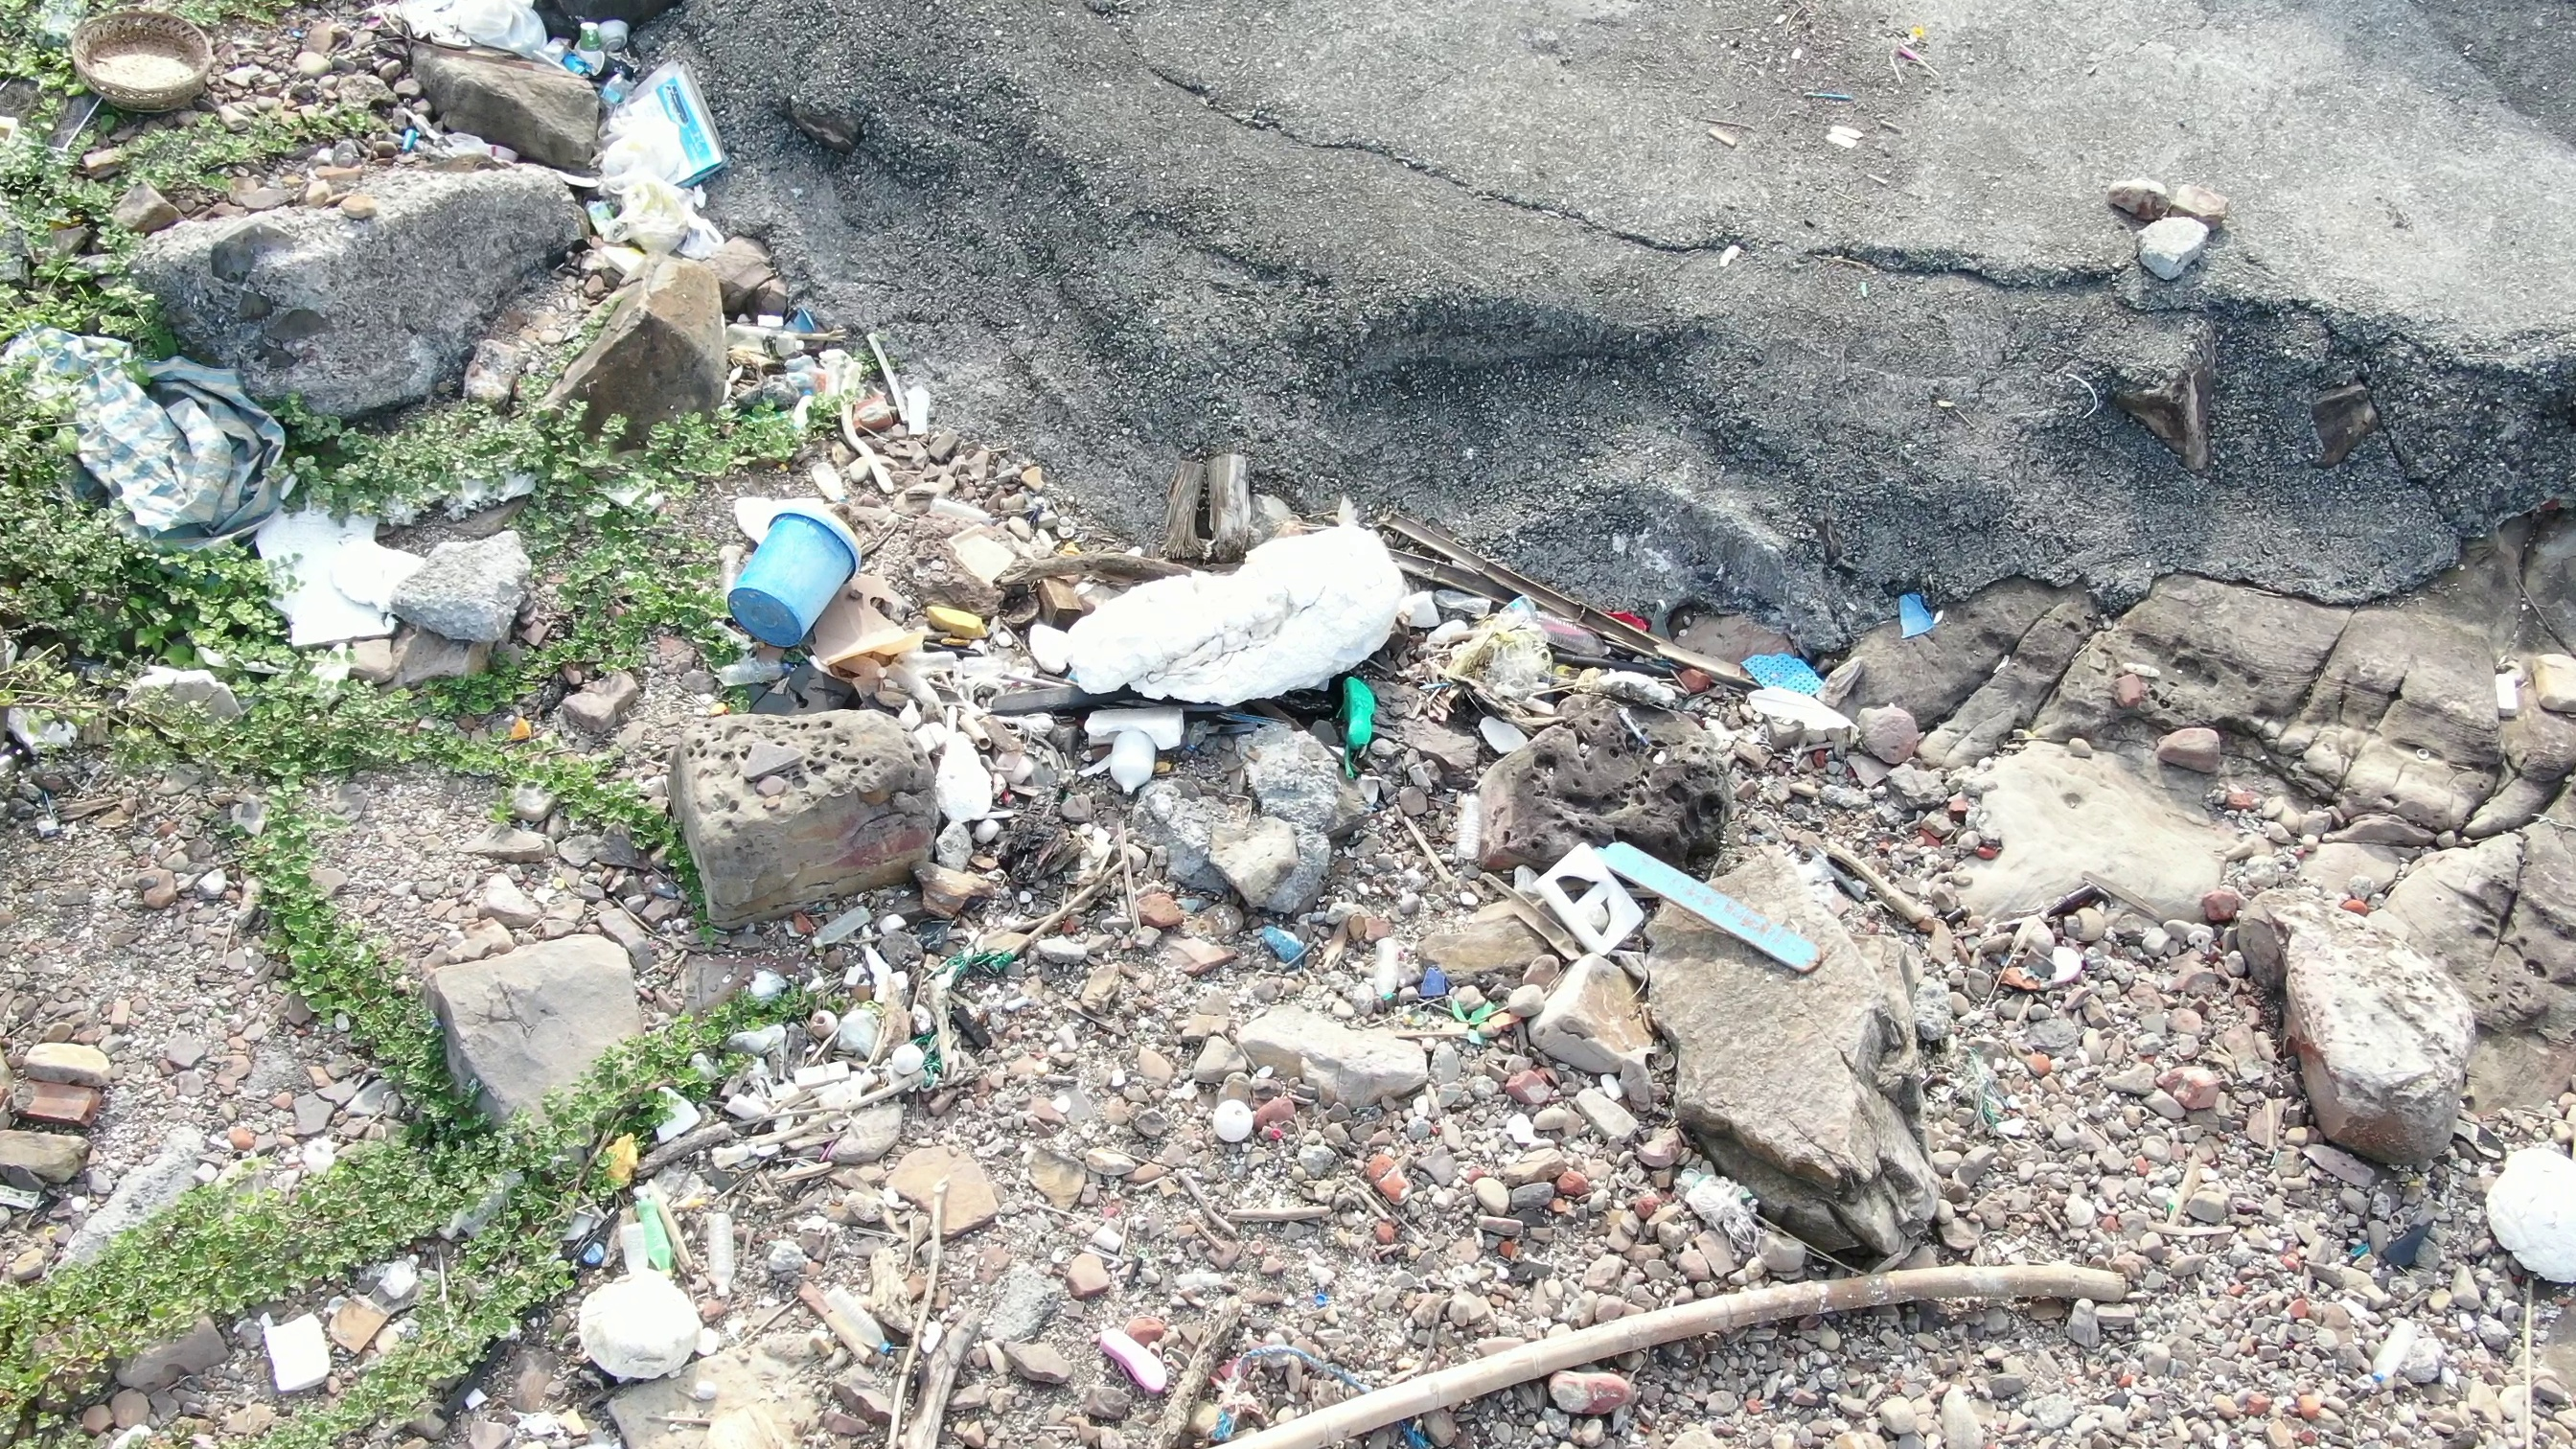garbage: (402, 11, 738, 272), (2, 327, 318, 570), (1534, 812, 1833, 993), (720, 497, 878, 649), (51, 14, 244, 113), (902, 939, 1024, 1095), (1730, 637, 1833, 715), (1323, 660, 1382, 782), (1882, 589, 1946, 653), (1242, 920, 1309, 971)
